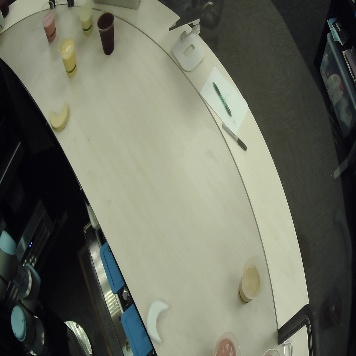full_cup: (236, 259, 264, 303), (57, 30, 78, 77), (39, 1, 57, 43), (213, 330, 242, 356), (96, 12, 113, 54), (75, 1, 93, 35)
puck: (145, 300, 170, 347), (48, 102, 70, 132)
